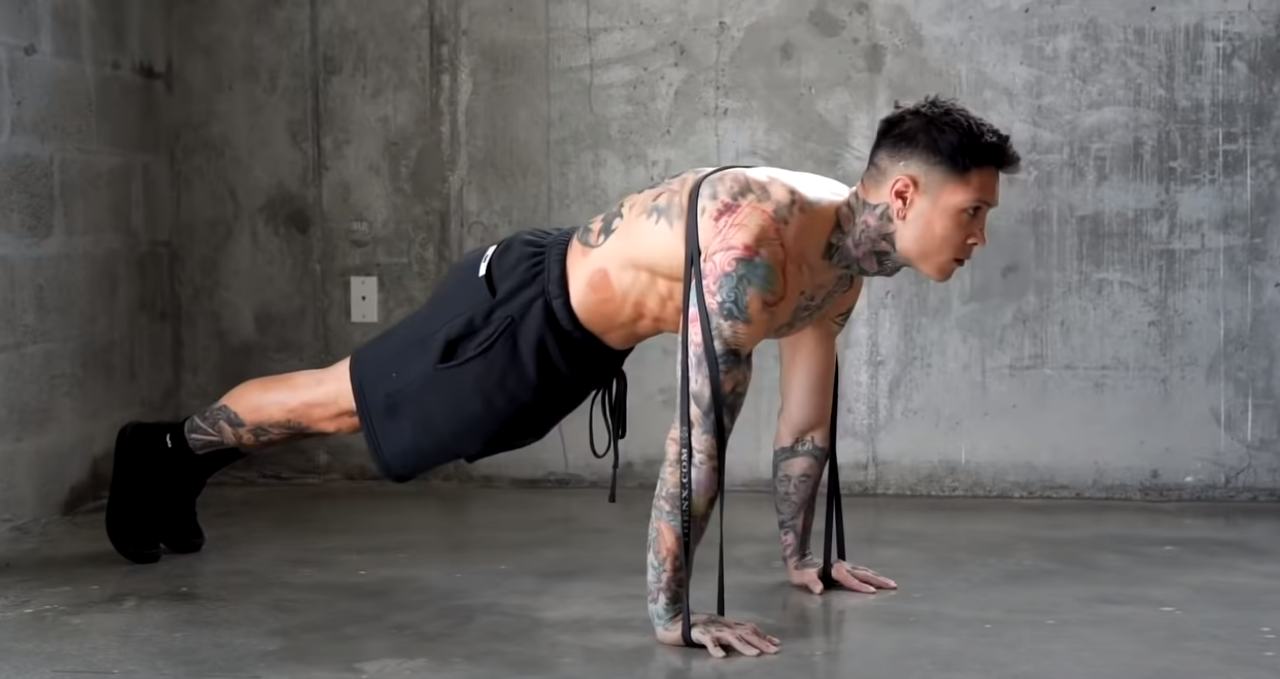up: (105, 99, 1020, 657)
